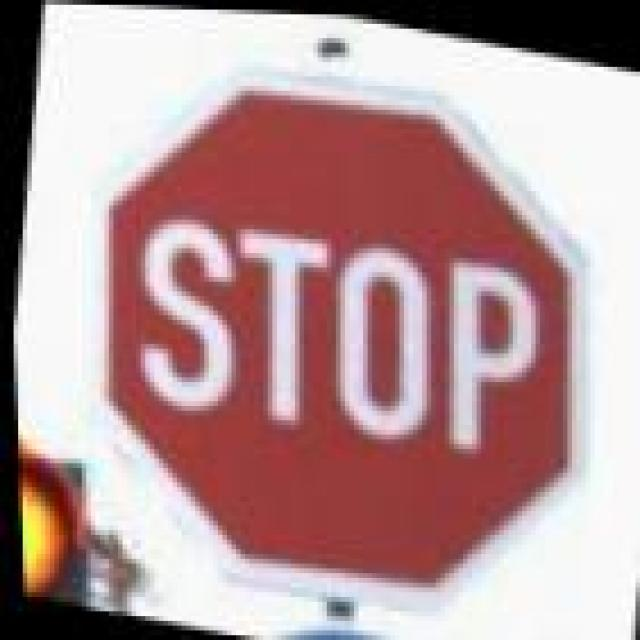stop_sign: (30, 24, 638, 640)
